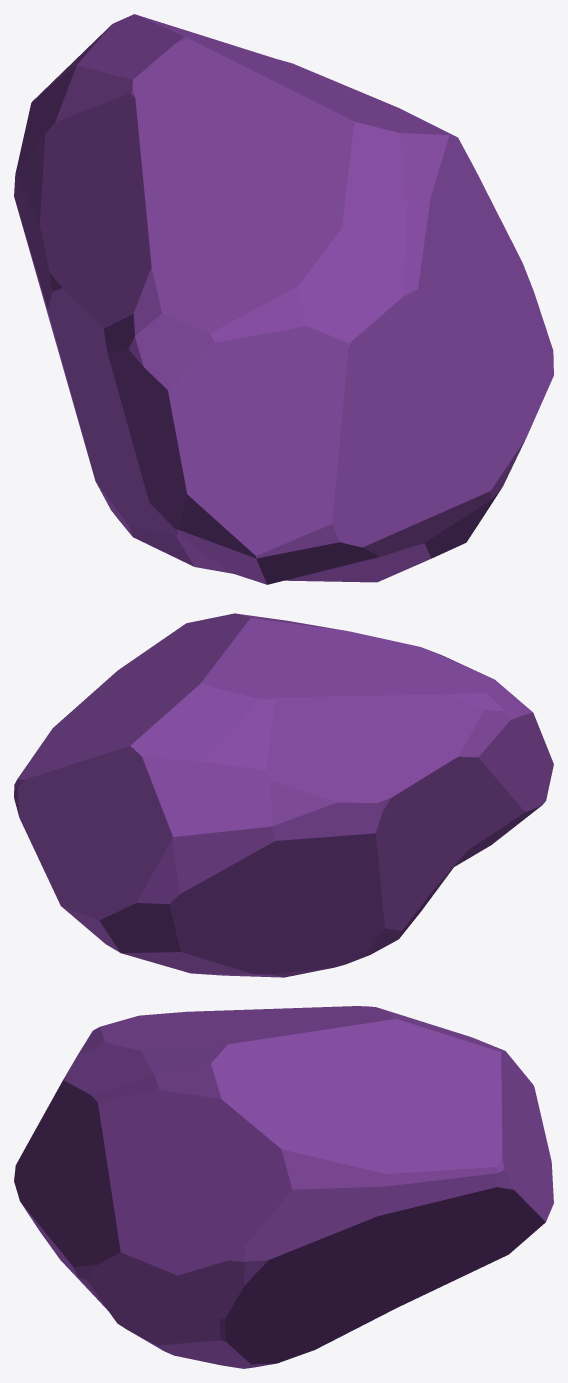
File: asteroidPurple.fbx
3 renders of one model, top to bottom at view 1: azimuth 30°, elevation 25°; view 2: azimuth 150°, elevation 25°; view 3: azimuth 270°, elevation 25°, orthographic. The views are drawn at different scales.
Parts seen in each view (by area): view 1: Asteroid.002; view 2: Asteroid.002; view 3: Asteroid.002.
Part boxes in pixels (bbox=[...]): Asteroid.002: bbox=[14, 14, 553, 584]; Asteroid.002: bbox=[14, 613, 553, 977]; Asteroid.002: bbox=[14, 1006, 553, 1368].
Size of the model in its own units: 494 by 439 by 682.
Materials: 1 (1 with a texture image).
